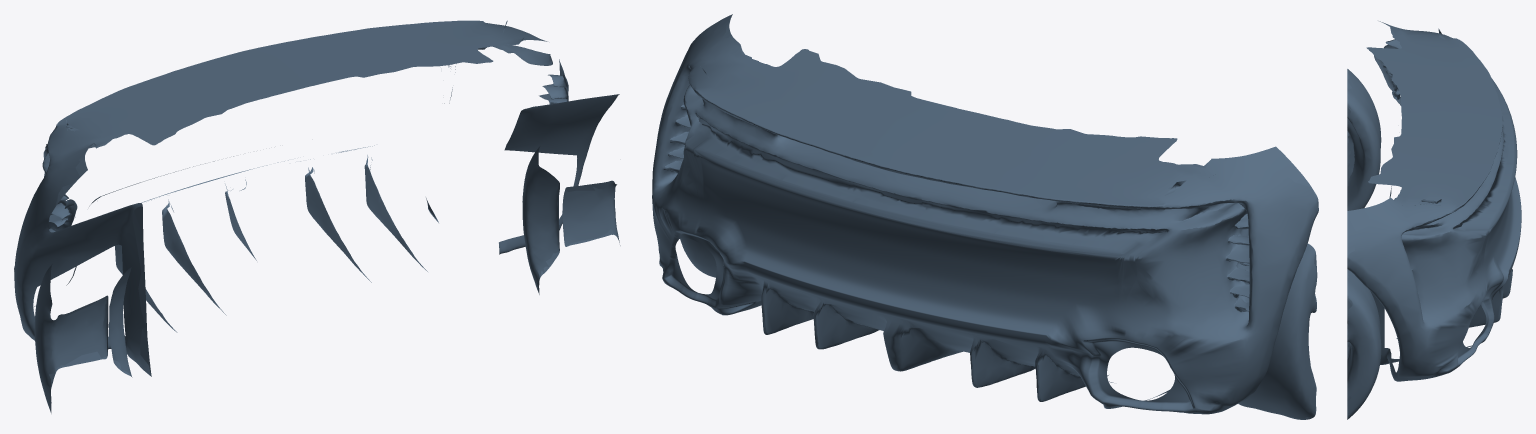
The model's file is rear-c-meshy-donor.glb.
3 renders of one model, left to right at view 1: azimuth 30°, elevation 25°; view 2: azimuth 150°, elevation 25°; view 3: azimuth 270°, elevation 25°, orthographic. The views are drawn at different scales.
Parts seen in each view (by area): view 1: Meshy C original rear extract; view 2: Meshy C original rear extract; view 3: Meshy C original rear extract.
Boxes of the visible parts, x1,y1,x2,y2 form: Meshy C original rear extract: (14,20,620,413); Meshy C original rear extract: (652,14,1318,419); Meshy C original rear extract: (1347,21,1521,419).
Bounding box in the file's own units: 1.89 × 0.767 × 0.608.
